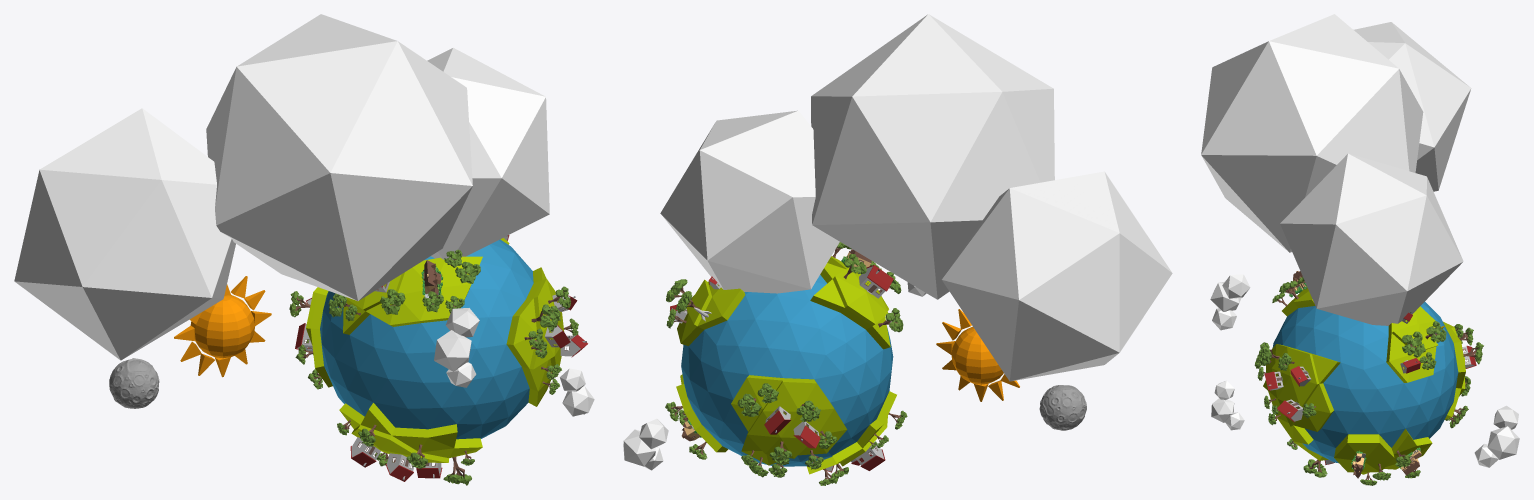
The model's file is planet4.glb.
3 views of the same model, side by side, from view 1: azimuth 30°, elevation 25°; view 2: azimuth 150°, elevation 25°; view 3: azimuth 270°, elevation 25° (orthographic). The views are drawn at different scales.
Visible parts, largest first — view 1: cloud2, water, land, sun, cloud1, Moon, cloud4, Node.002; view 2: cloud2, water, land, sun, Moon, cloud3, hos.011; view 3: cloud2, water, land, cloud3, cloud1, cloud4, tree.040, hos.003.
Boxes of the visible parts, x1,y1,x2,y2 form: cloud2: [14, 14, 549, 360]; water: [320, 239, 533, 439]; land: [306, 238, 564, 462]; sun: [174, 276, 271, 377]; cloud1: [434, 308, 479, 387]; Moon: [109, 358, 159, 408]; cloud4: [560, 368, 594, 416]; Node.002: [421, 260, 442, 304]; cloud2: [660, 14, 1172, 381]; water: [681, 275, 893, 466]; land: [676, 256, 896, 474]; sun: [936, 309, 1019, 401]; Moon: [1039, 385, 1086, 430]; cloud3: [623, 418, 668, 470]; hos.011: [859, 265, 893, 298]; cloud2: [1201, 14, 1471, 325]; water: [1272, 302, 1458, 463]; land: [1263, 288, 1465, 474]; cloud3: [1474, 405, 1519, 467]; cloud1: [1210, 274, 1250, 330]; cloud4: [1211, 380, 1244, 430]; tree.040: [1402, 331, 1425, 357]; hos.003: [1277, 399, 1303, 422].
Size of the model in its own units: 5.06 by 4.69 by 3.4.
25 materials, 2 textured.
